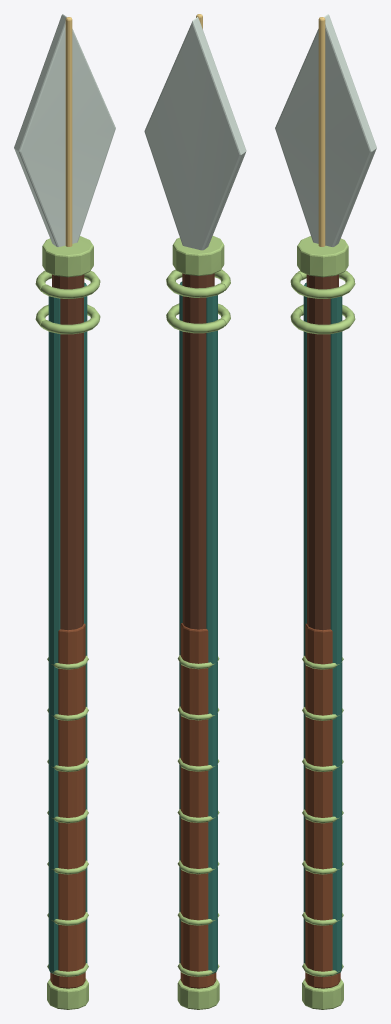
Rendered from item_020.glb.
The picture shows the model from 3 angles, left to right: view 1: azimuth 30°, elevation 25°; view 2: azimuth 150°, elevation 25°; view 3: azimuth 330°, elevation 25°; orthographic projection.
Parts seen in each view (by area): view 1: Item_020_reed_lance; view 2: Item_020_reed_lance; view 3: Item_020_reed_lance.
Boxes of the visible parts, <box> form: Item_020_reed_lance: <box>14,14,115,1009</box>; Item_020_reed_lance: <box>144,14,246,1009</box>; Item_020_reed_lance: <box>275,14,376,1009</box>.
Bounding box in the file's own units: 0.23 × 2.22 × 0.134.
